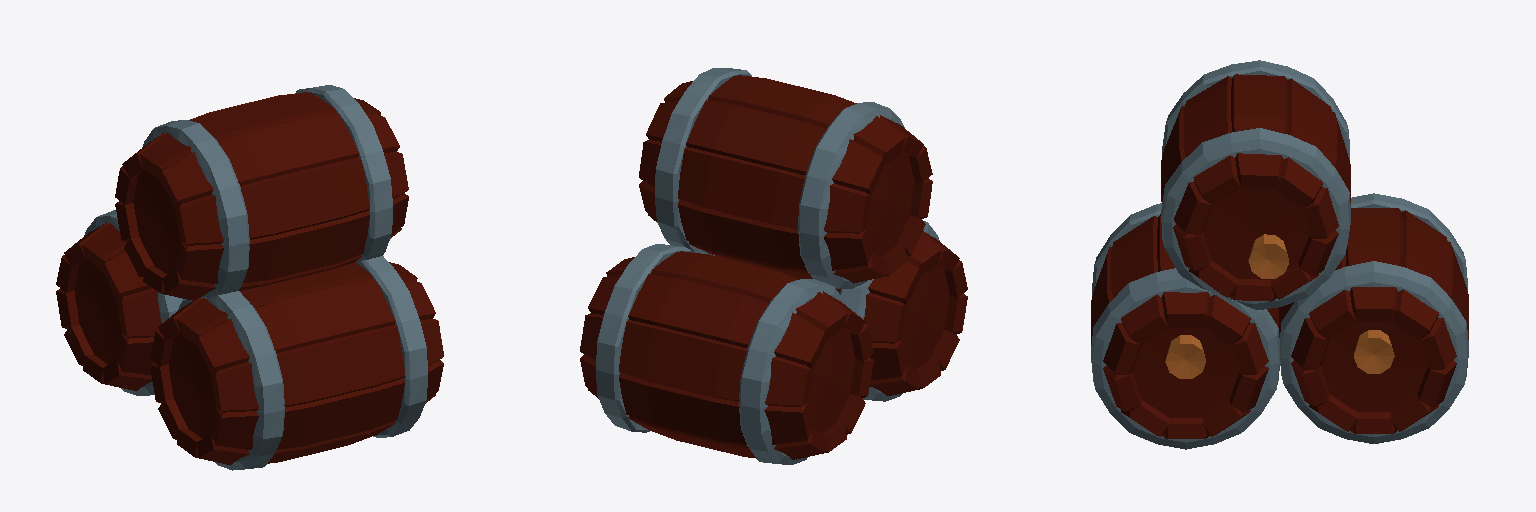
File: barrels.obj
The picture shows the model from 3 angles: view 1: azimuth 30°, elevation 25°; view 2: azimuth 150°, elevation 25°; view 3: azimuth 270°, elevation 25°; orthographic projection.
Visible parts, largest first — view 1: barrels_Cylinder.255; view 2: barrels_Cylinder.255; view 3: barrels_Cylinder.255.
Part boxes in pixels (bbox=[...]): barrels_Cylinder.255: bbox=[56, 85, 443, 470]; barrels_Cylinder.255: bbox=[580, 68, 967, 464]; barrels_Cylinder.255: bbox=[1091, 60, 1468, 449].
Size of the model in its own units: 0.7847 by 1.01 by 1.1.